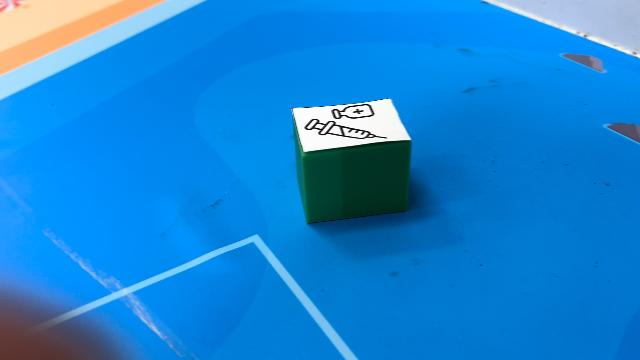syringe: (290, 98, 412, 224)
